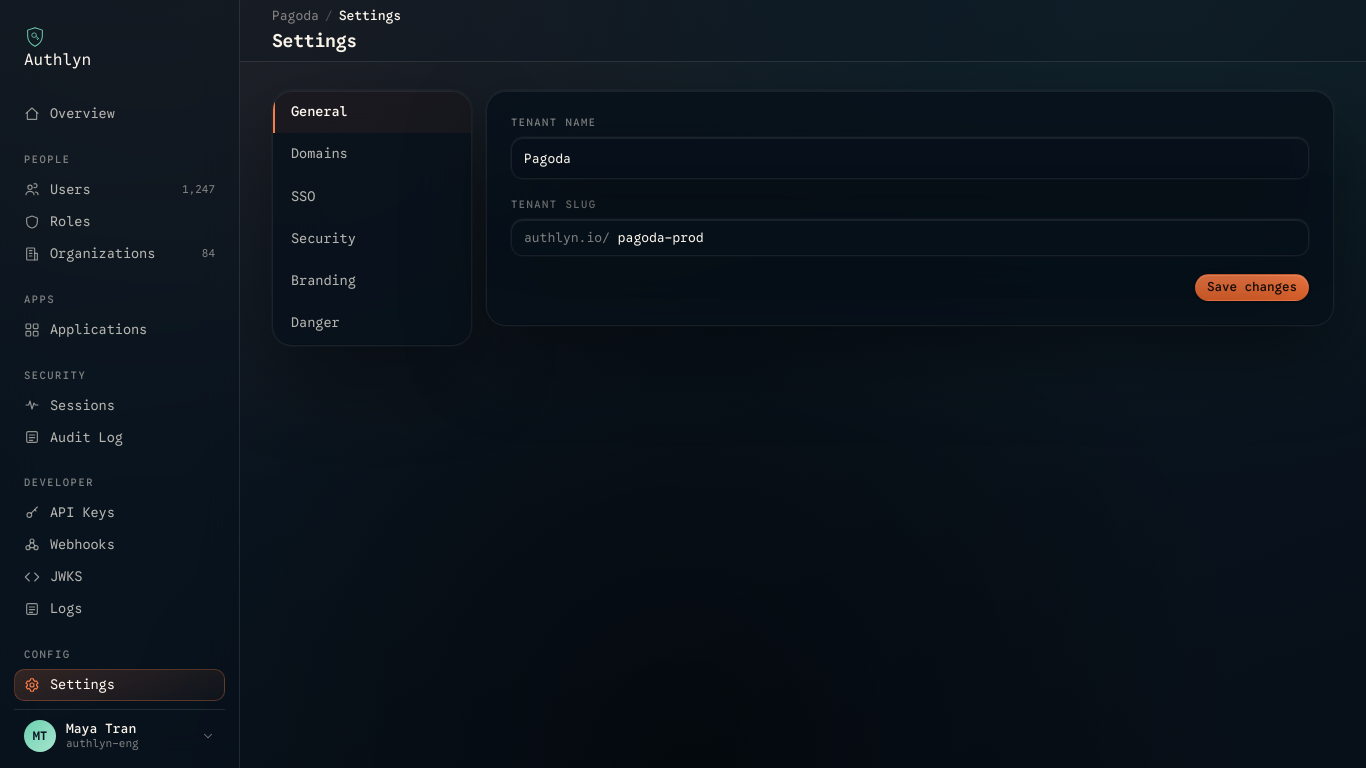
Scenario: switches to Domains section on click
The image size is (1366, 768).
Step 1. Click the button "Domains" → {"x": 319, "y": 154}, box x1=291 y1=145 x2=348 y2=162
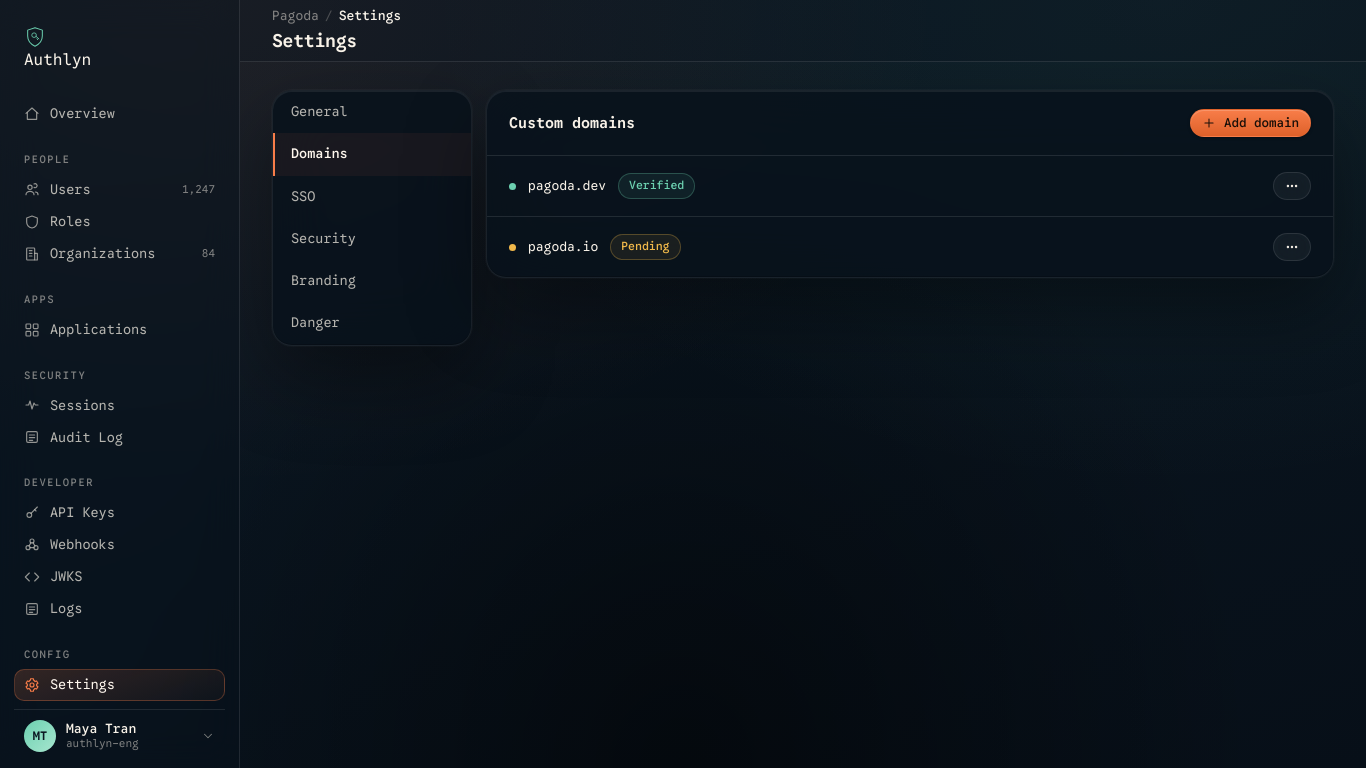
Result: the heading "Custom domains" is shown at x1=509 y1=112 x2=635 y2=134
Result: the text "pagoda.dev" is shown at x1=528 y1=176 x2=606 y2=196
